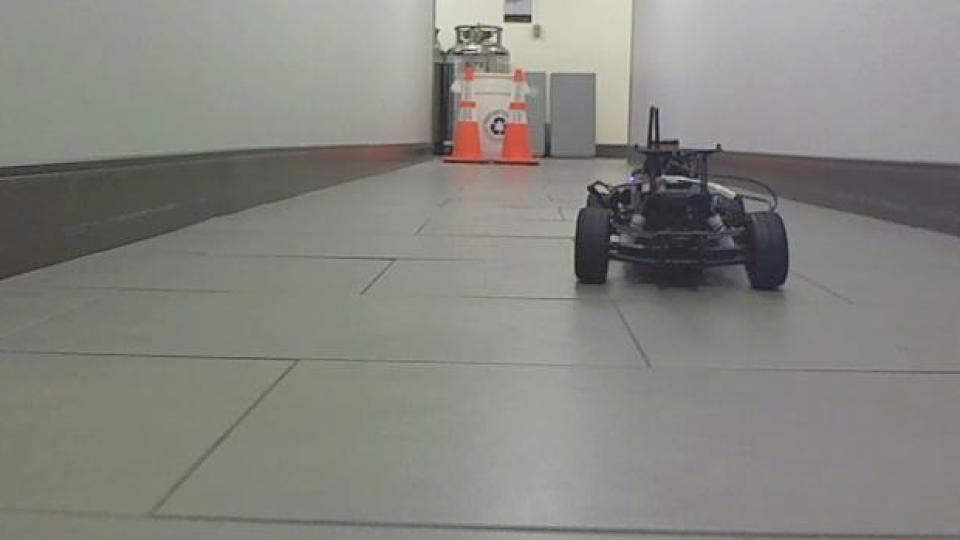car: (570, 104, 793, 293)
